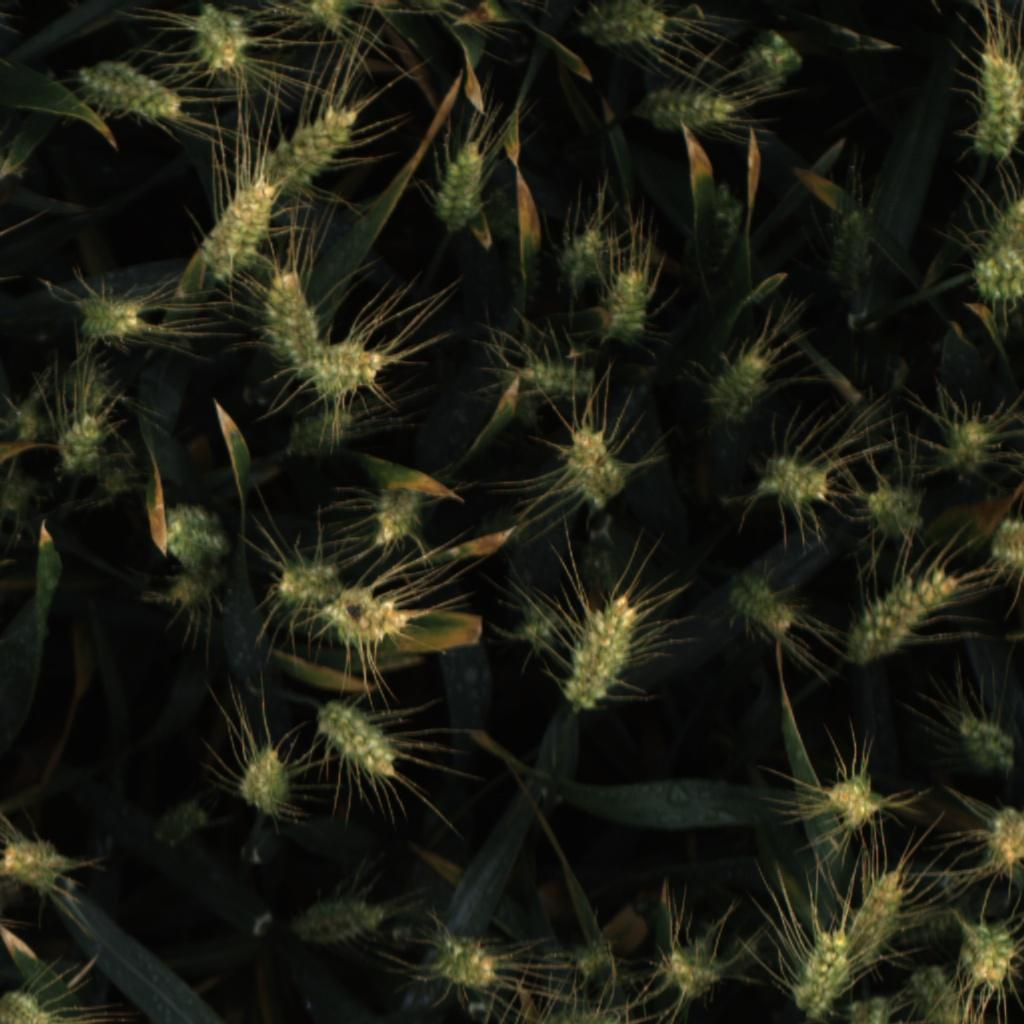0-0: (242, 100, 359, 207), (842, 564, 960, 668), (188, 170, 285, 292), (561, 588, 647, 718), (73, 53, 185, 128), (18, 534, 72, 676), (961, 45, 1024, 165), (256, 270, 327, 370), (318, 698, 401, 782), (790, 919, 857, 1018), (560, 419, 630, 508), (288, 890, 385, 953), (307, 334, 401, 399), (431, 135, 492, 235), (851, 864, 914, 958), (320, 586, 417, 647), (635, 82, 741, 137), (950, 913, 1021, 992), (67, 280, 148, 348), (577, 0, 678, 54), (704, 348, 772, 427), (949, 706, 1023, 778), (423, 926, 503, 991), (726, 565, 796, 639), (827, 205, 878, 303), (156, 499, 227, 569), (658, 935, 730, 1003), (599, 268, 665, 342), (549, 219, 615, 293), (737, 24, 807, 92), (514, 589, 580, 661), (237, 739, 296, 819), (512, 352, 608, 401), (0, 828, 72, 892), (861, 477, 928, 544), (822, 764, 886, 834), (705, 174, 749, 271), (755, 455, 834, 507), (185, 7, 249, 71), (145, 792, 217, 848), (284, 403, 356, 458), (903, 966, 971, 1024), (62, 352, 115, 424), (273, 556, 345, 608), (942, 411, 994, 483), (57, 412, 111, 480), (371, 487, 428, 551), (977, 795, 1024, 867), (0, 386, 56, 444), (968, 247, 1024, 304), (166, 568, 227, 618), (0, 984, 73, 1024), (529, 997, 632, 1024), (897, 900, 971, 937), (302, 0, 367, 42), (570, 930, 621, 982), (89, 456, 139, 509), (0, 466, 47, 521), (983, 191, 1024, 252), (992, 511, 1024, 583), (843, 992, 897, 1024)
